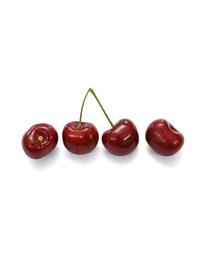cherry: (145, 119, 185, 157), (22, 122, 58, 160), (101, 119, 139, 155), (62, 121, 96, 154)
